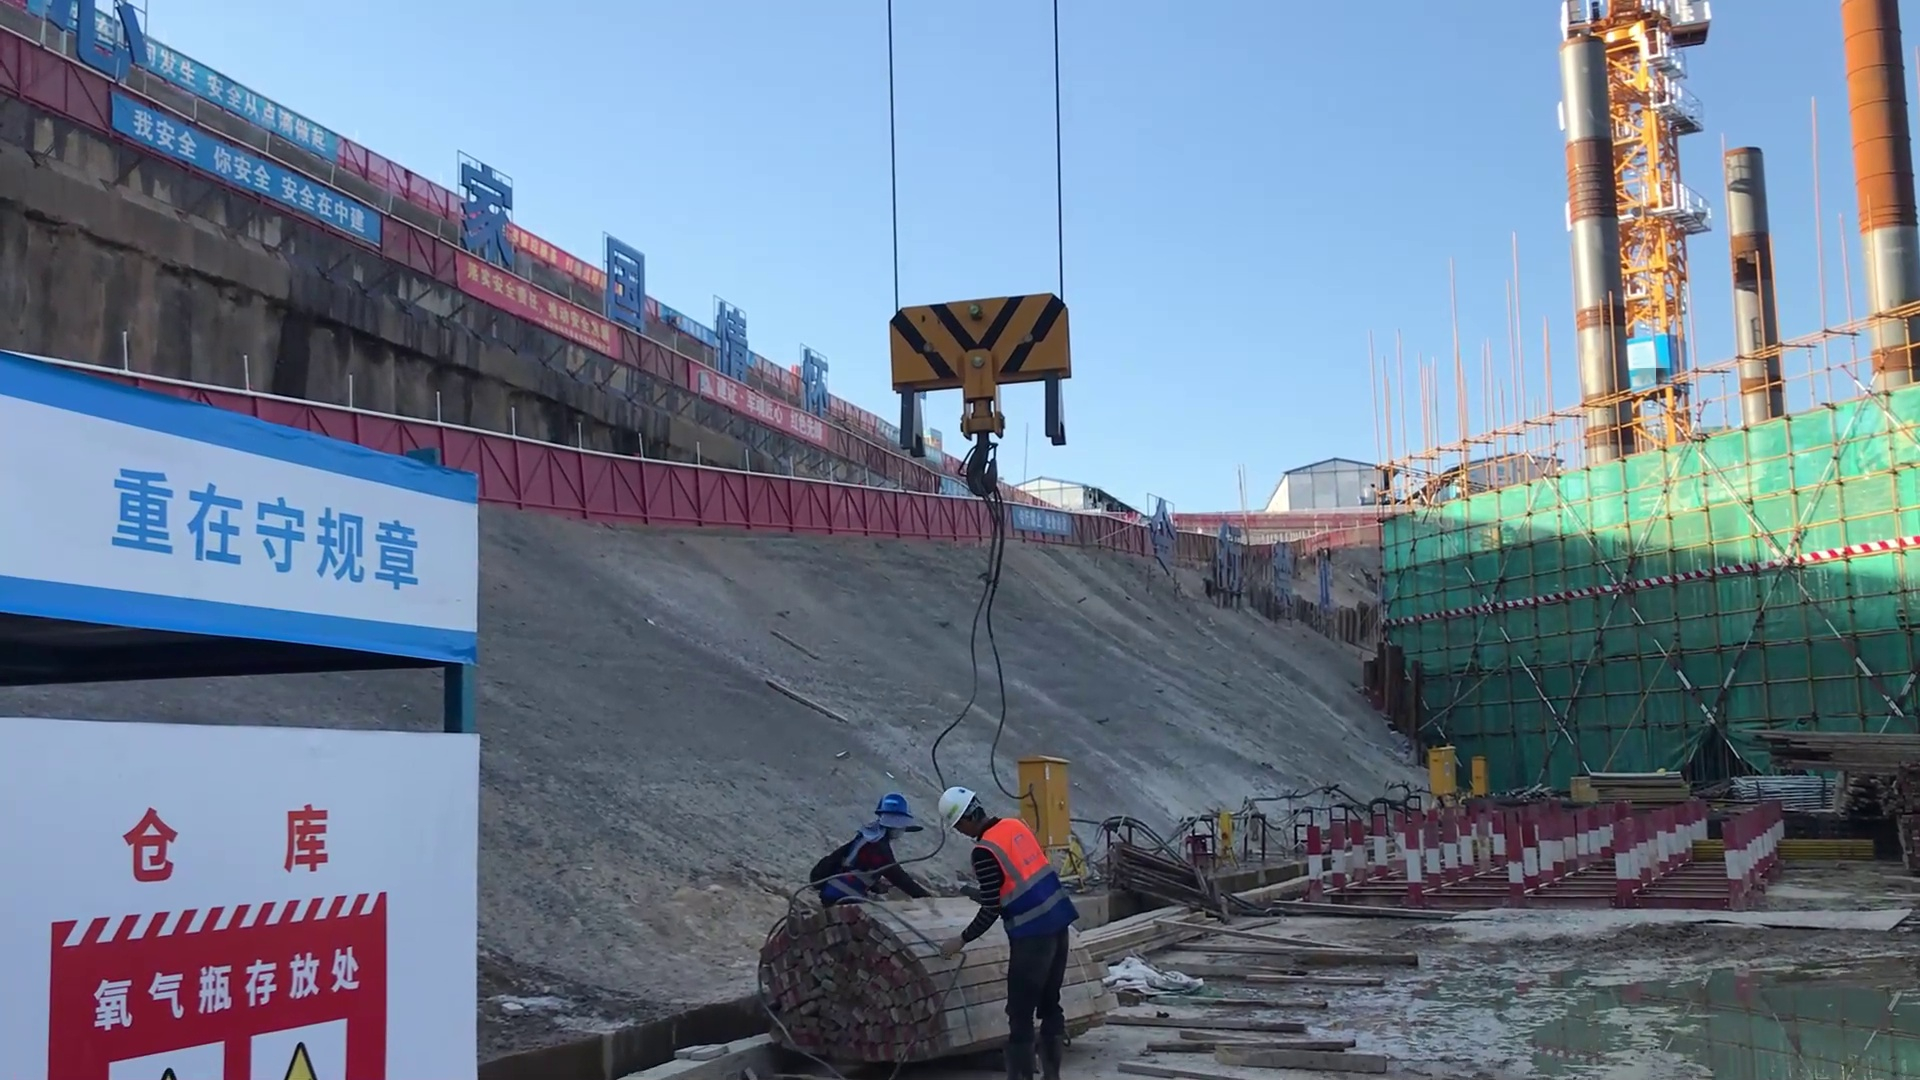ebox: (1008, 741, 1108, 868), (1426, 747, 1454, 798), (1468, 754, 1487, 798)
fence: (471, 437, 741, 527), (740, 471, 993, 544)
helmet: (841, 789, 921, 853), (936, 787, 984, 857)
hook: (881, 281, 1078, 478)
person: (934, 778, 1095, 1080), (807, 779, 935, 908)
slogan: (38, 444, 444, 607), (104, 109, 392, 316), (133, 35, 356, 192), (411, 257, 625, 416)
vest: (964, 818, 1054, 894)
wood: (745, 916, 928, 1080), (1754, 722, 1920, 761)
